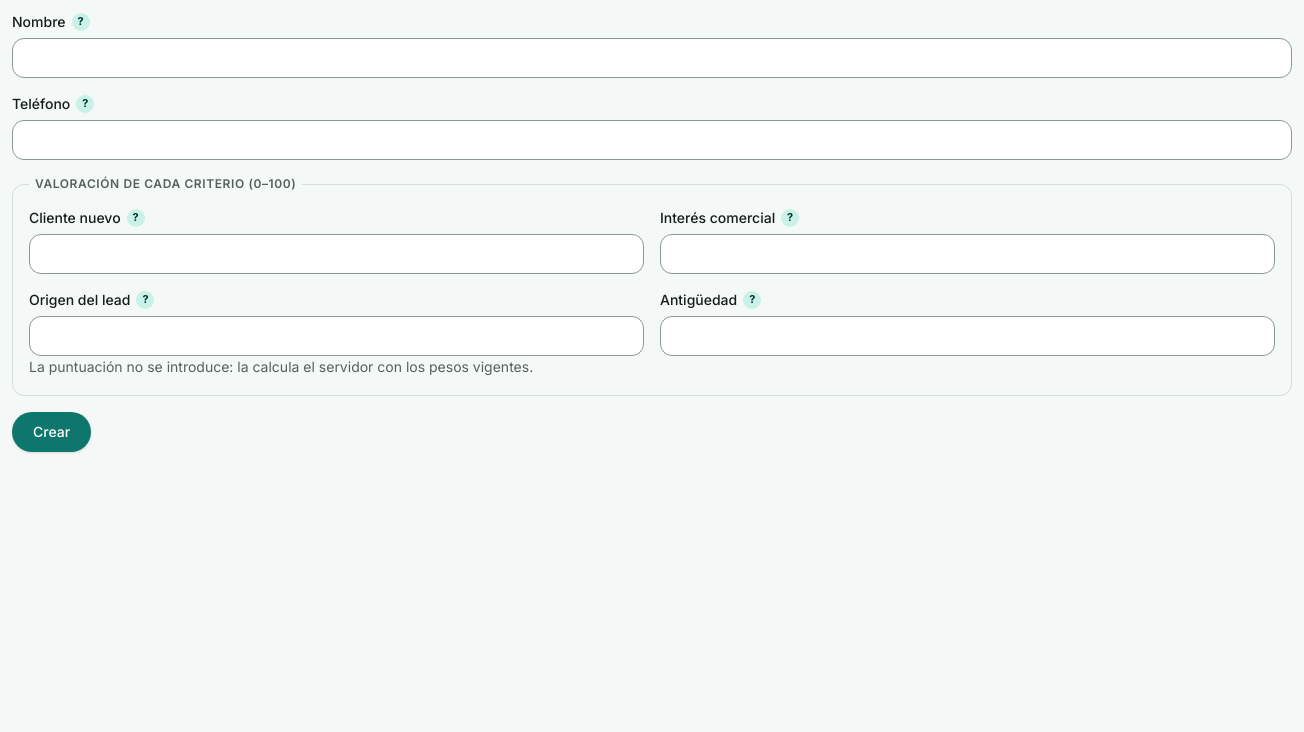
Test: LeadForm › validación en React › tras un envío fallido los errores se actualizan al corregir el campo
expect the text "El nombre es obligatorio" is not shown: met
Step 1. Click the button "Crear" → point(52, 432), box [12,412,91,452]
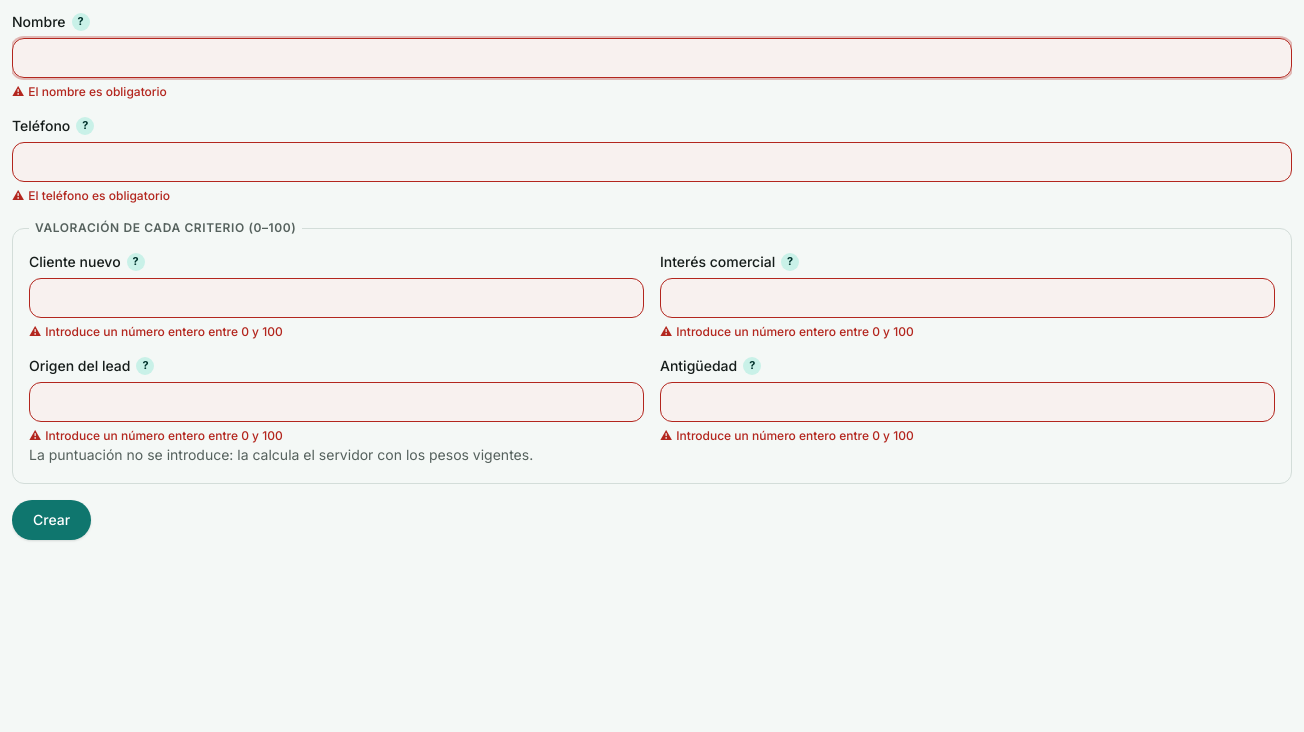
expect the text "El nombre es obligatorio" is shown: met, box [28,84,167,99]
Step 2. Type "Ana" into the field labelled "Nombre" → point(652, 58), box [12,38,1292,78]
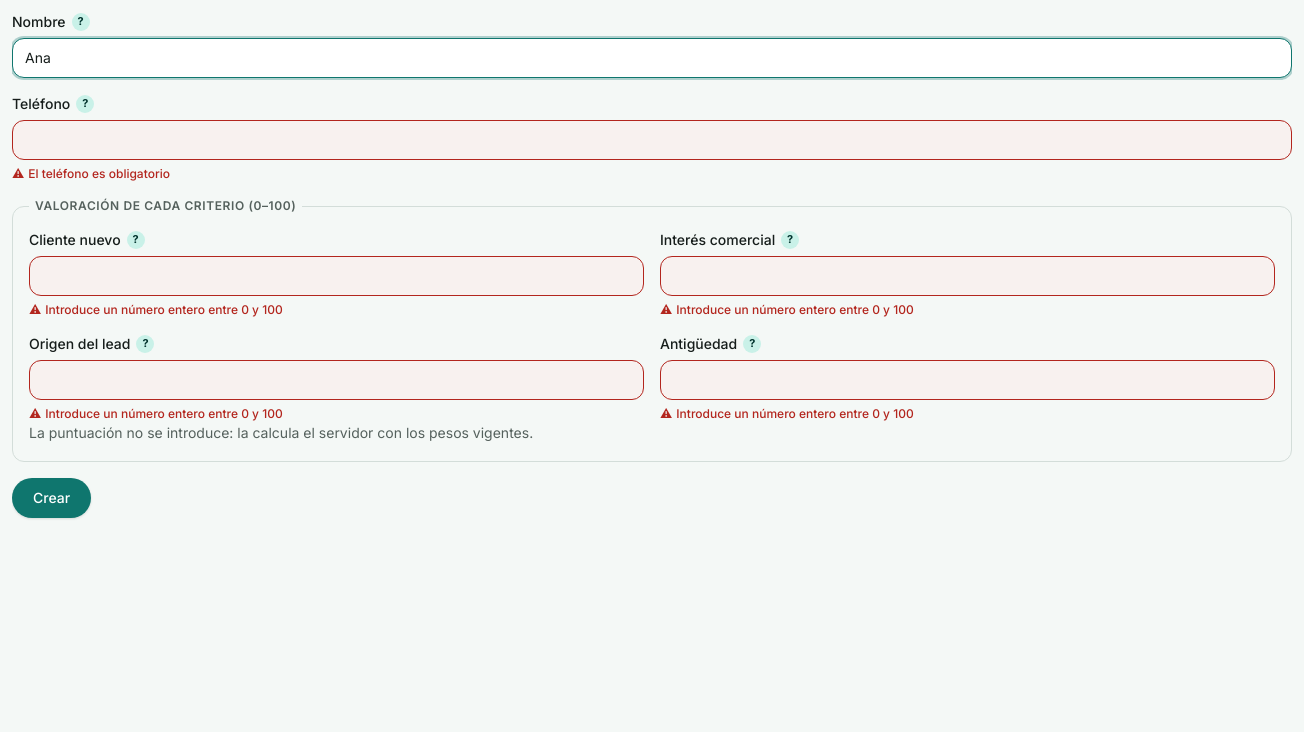
expect the text "El nombre es obligatorio" is gone: met
